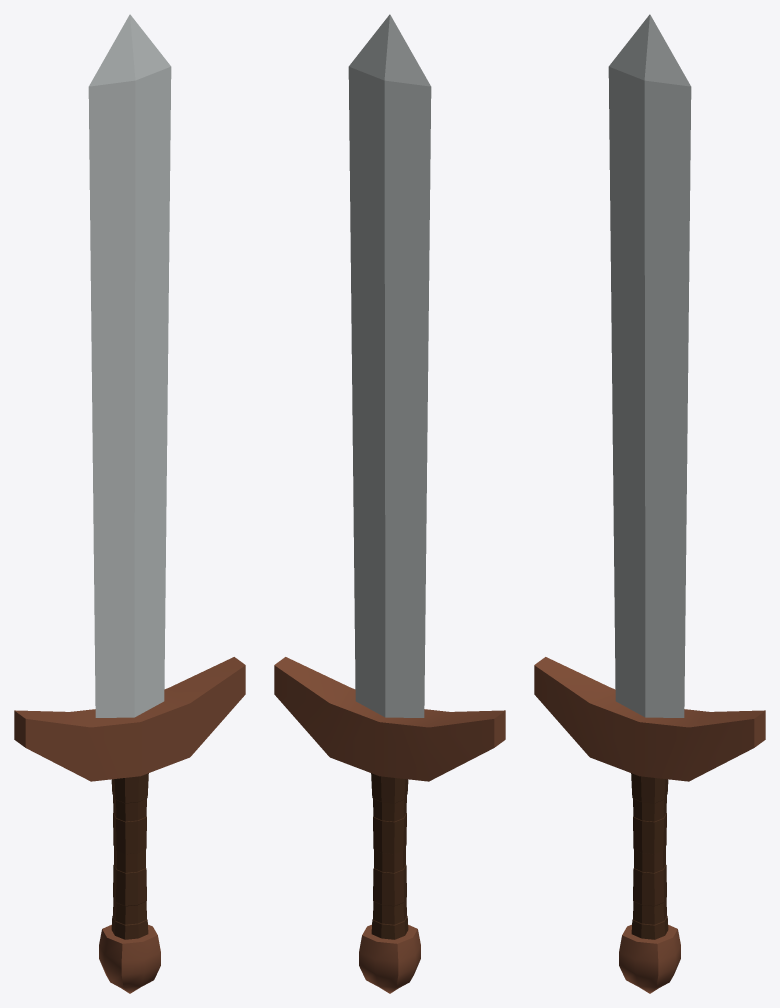
The model's file is sword.gltf.
3 views of the same model, side by side, from view 1: azimuth 30°, elevation 25°; view 2: azimuth 150°, elevation 25°; view 3: azimuth 330°, elevation 25° (orthographic).
Visible parts, largest first — view 1: Cube_1.001; view 2: Cube_1.001; view 3: Cube_1.001.
Part boxes in pixels (x1,y1,x2,y2): Cube_1.001: (14,14,245,993); Cube_1.001: (274,14,505,993); Cube_1.001: (534,14,765,993).
Bounding box in the file's own units: 0.2267 × 0.9643 × 0.0525.
